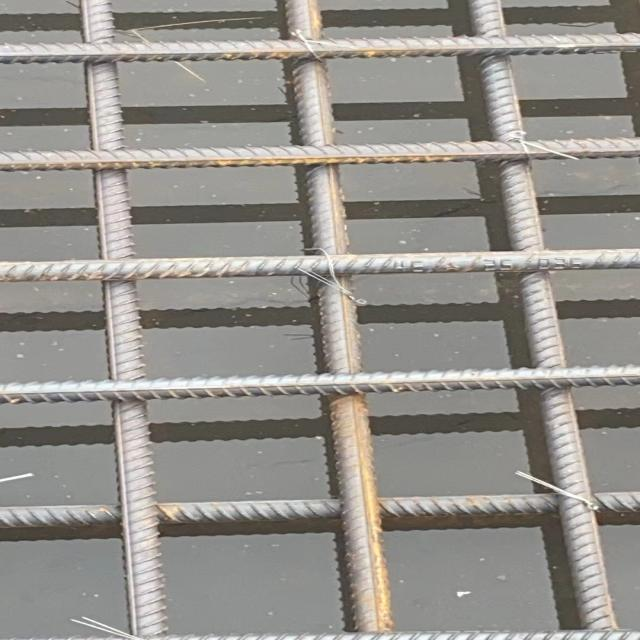ribbed bar: (466, 0, 618, 629), (281, 0, 394, 632), (79, 0, 169, 635), (0, 362, 639, 404), (0, 247, 639, 283), (0, 492, 639, 528), (0, 137, 639, 171), (0, 32, 639, 64), (0, 628, 639, 640)
